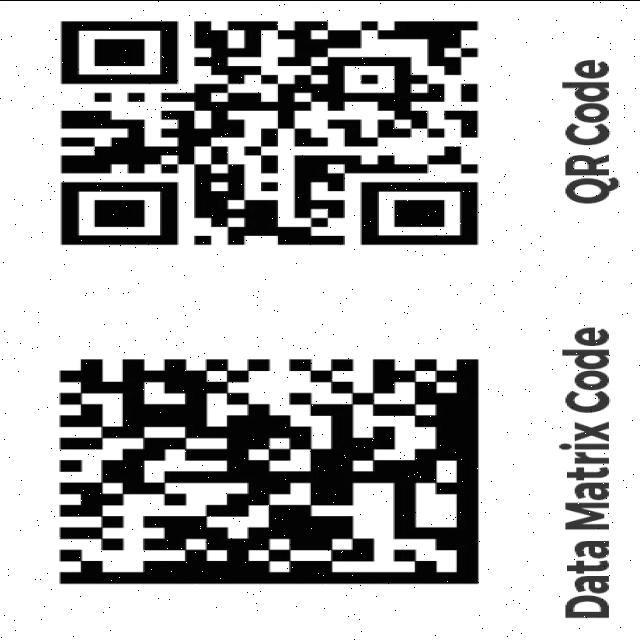datamatrix: (42, 351, 491, 592)
